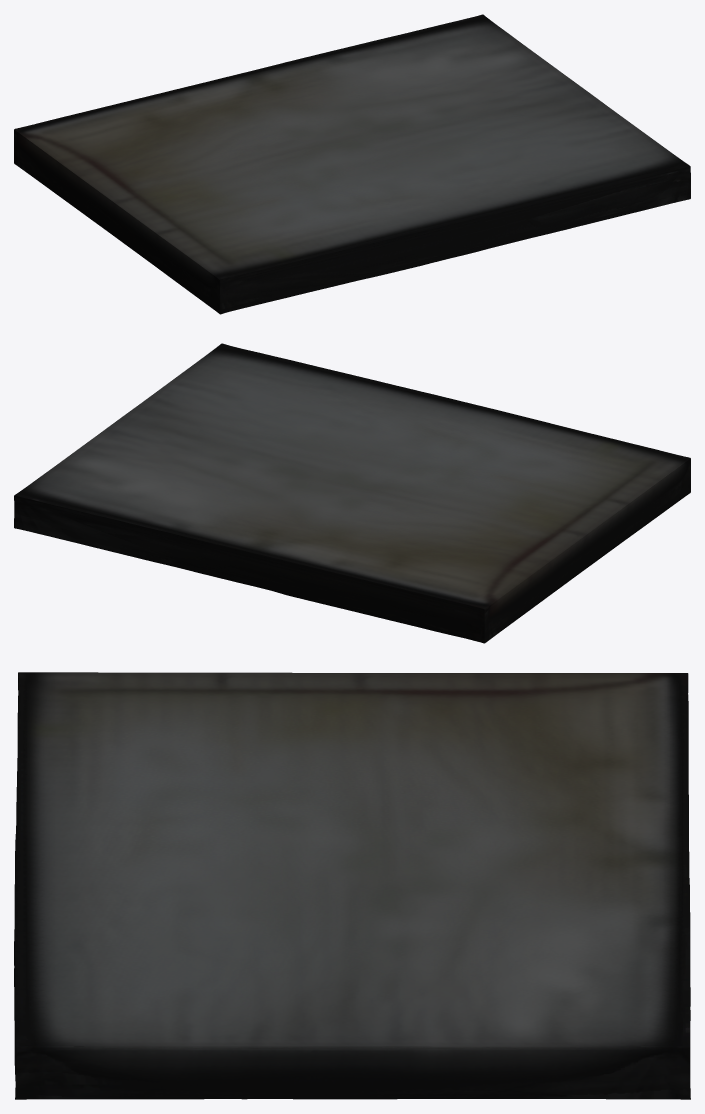
Rendered from office-tower.glb.
The picture shows the model from 3 angles, top to bottom: view 1: azimuth 30°, elevation 25°; view 2: azimuth 150°, elevation 25°; view 3: azimuth 270°, elevation 25°; orthographic projection. The views are drawn at different scales.
Visible parts, largest first — view 1: geometry_0; view 2: geometry_0; view 3: geometry_0.
Part boxes in pixels (x1,y1,x2,y2): geometry_0: [14, 14, 690, 314]; geometry_0: [14, 343, 690, 643]; geometry_0: [14, 672, 690, 1099].
Bounding box in the file's own units: 1 × 0.0742 × 0.767.
Materials: 1 (1 with a texture image).
